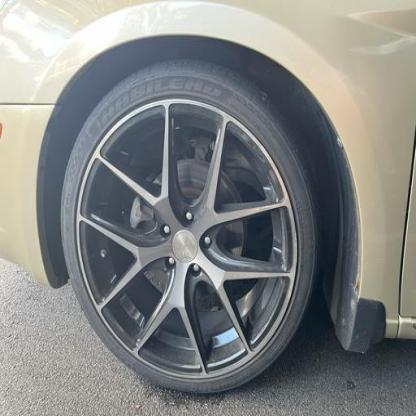Tire: (60, 53, 320, 396)
